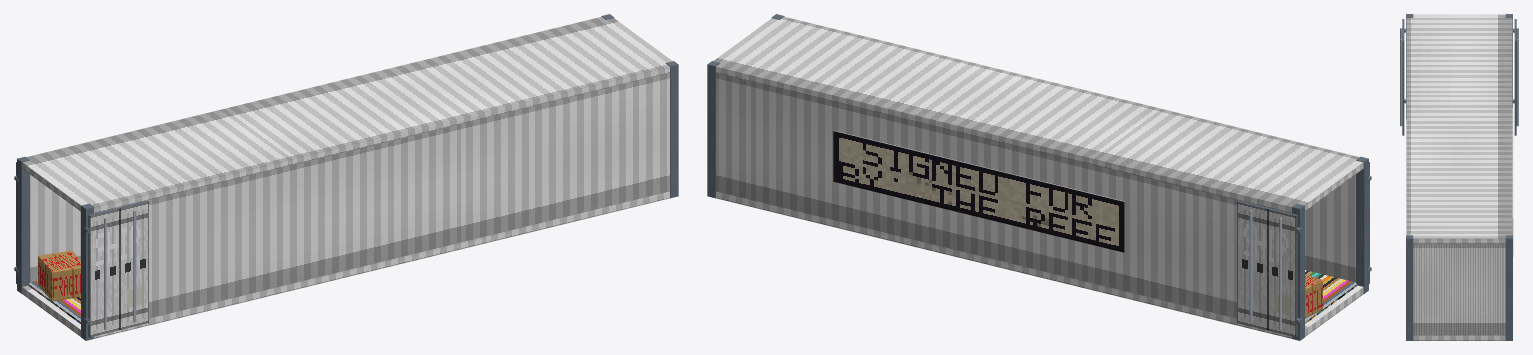
Rendered from p_wreck_box.glb.
3 views of the same model, side by side, from view 1: azimuth 30°, elevation 25°; view 2: azimuth 150°, elevation 25°; view 3: azimuth 270°, elevation 25° (orthographic). The views are drawn at different scales.
Visible parts, largest first — view 1: p_wreck_box_lod0; view 2: p_wreck_box_lod0; view 3: p_wreck_box_lod0.
Boxes of the visible parts, x1=… form: p_wreck_box_lod0: x1=14, y1=14, x2=678, y2=340; p_wreck_box_lod0: x1=707, y1=14, x2=1371, y2=340; p_wreck_box_lod0: x1=1400, y1=14, x2=1518, y2=340.
Size of what is drawn, in the model's own units: 12.22 by 2.6 by 2.73.
Materials: 2 (2 with a texture image).
